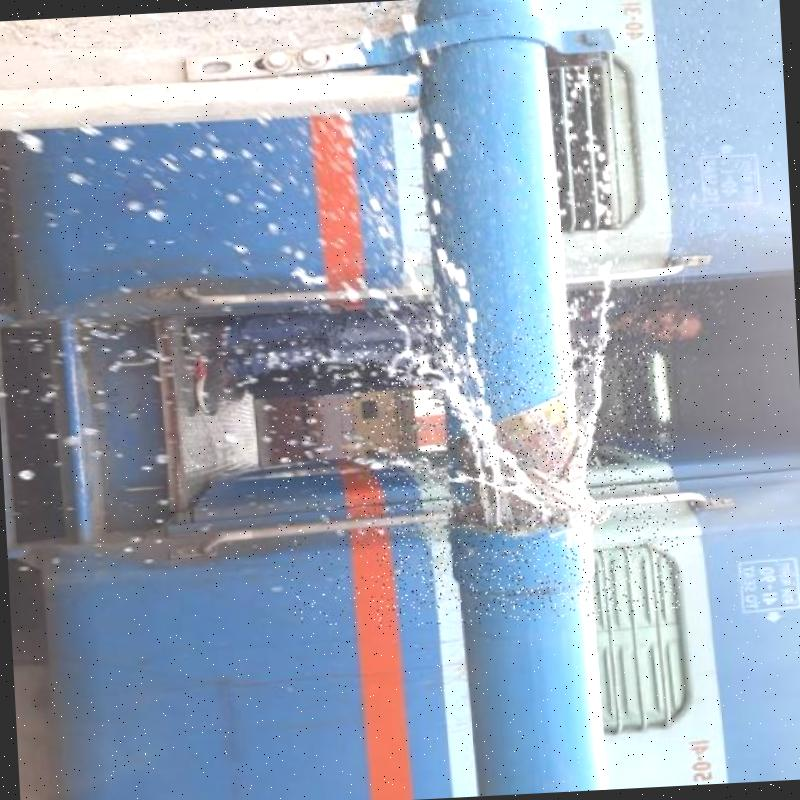Fracture: (382, 394, 621, 612)
